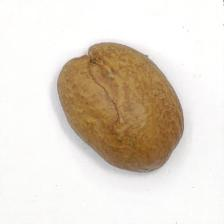NG: (68, 42, 132, 126)
